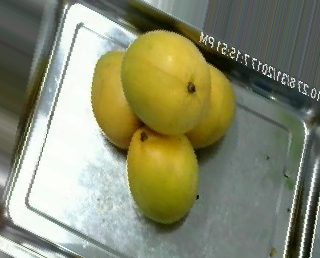Mango: (119, 32, 213, 136), (120, 121, 207, 229), (84, 46, 153, 147), (162, 59, 238, 148)
